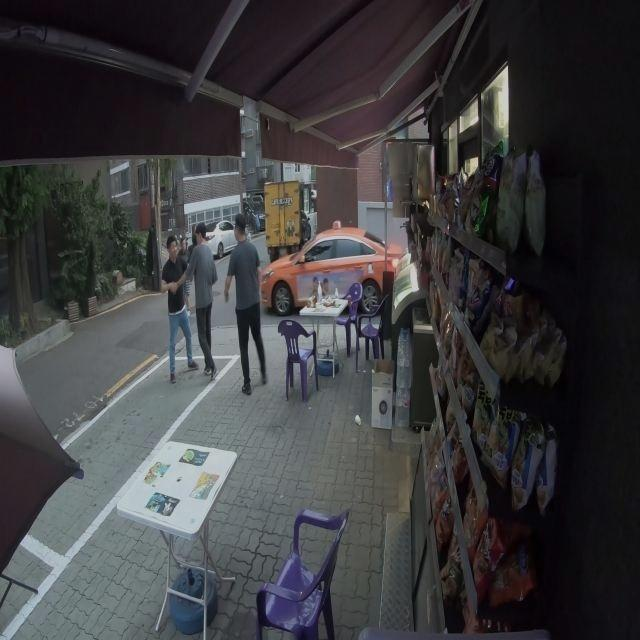fight: (160, 222, 220, 383)
non-fight: (224, 215, 269, 394)
